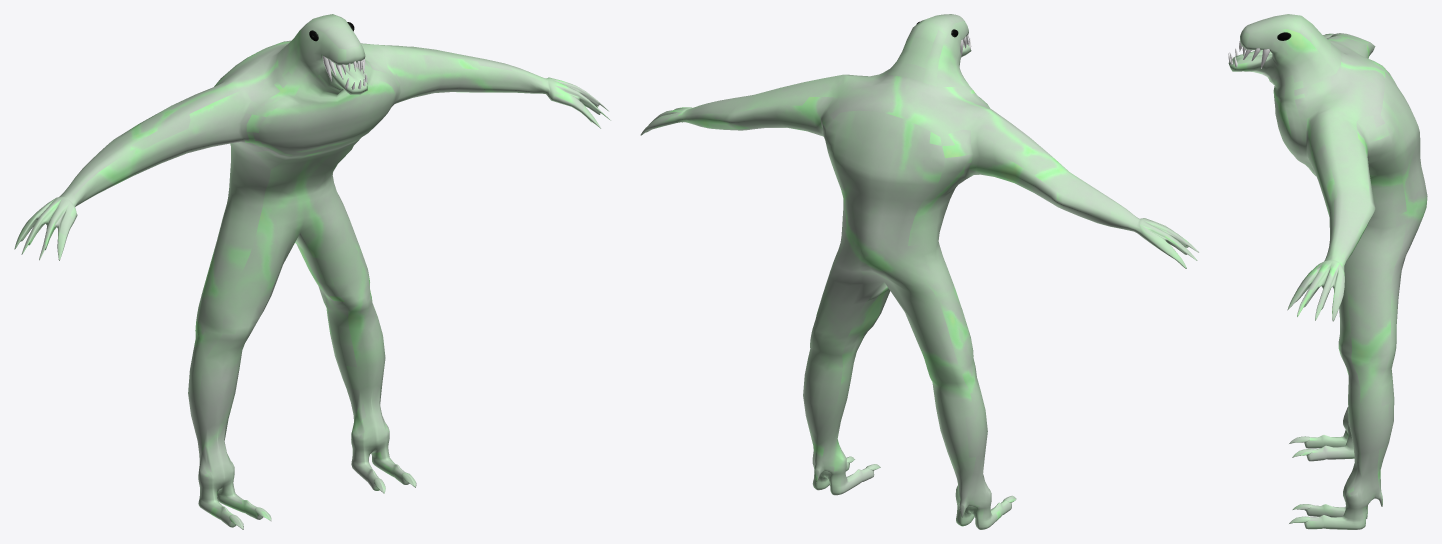
The model's file is alienberserker.obj.
The picture shows the model from 3 angles, left to right: view 1: azimuth 30°, elevation 25°; view 2: azimuth 150°, elevation 25°; view 3: azimuth 270°, elevation 25°; orthographic projection. The views are drawn at different scales.
Visible parts, largest first — view 1: polySurface27; view 2: polySurface27; view 3: polySurface27.
Boxes of the visible parts, x1,y1,x2,y2 form: polySurface27: (14,14,610,529); polySurface27: (640,14,1198,529); polySurface27: (1228,14,1427,529).
Size of the model in its own units: 12.83 by 10.33 by 3.95.
Materials: 1 (1 with a texture image).
